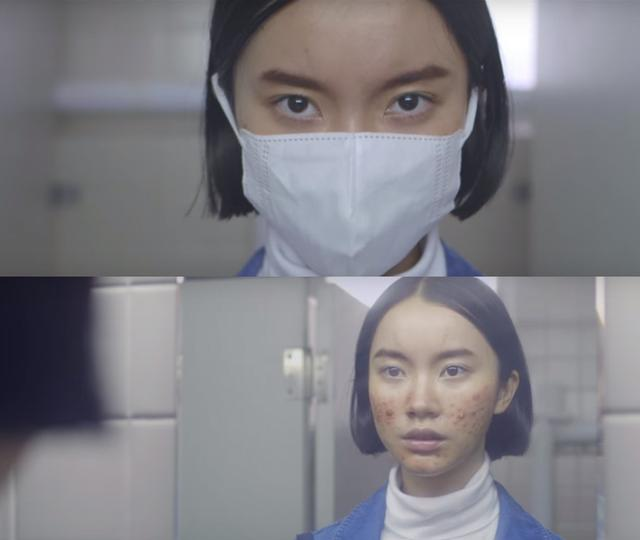face: (367, 304, 497, 473)
face_mask: (240, 1, 468, 260)
